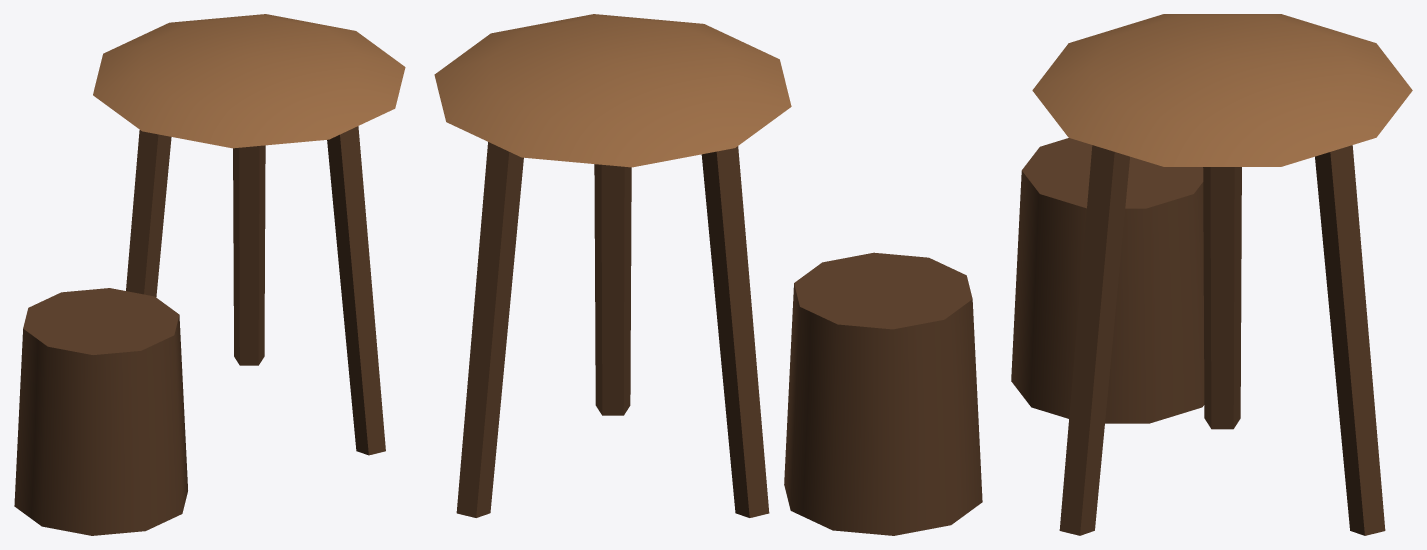
The model's file is Stool_Body.fbx.
The picture shows the model from 3 angles, left to right: view 1: azimuth 30°, elevation 25°; view 2: azimuth 150°, elevation 25°; view 3: azimuth 270°, elevation 25°; orthographic projection. The views are drawn at different scales.
Visible parts, largest first — view 1: Stool_Body_EXP; view 2: Stool_Body_EXP; view 3: Stool_Body_EXP.
Part boxes in pixels (x1=…): Stool_Body_EXP: x1=14, y1=14, x2=405, y2=535; Stool_Body_EXP: x1=434, y1=14, x2=982, y2=535; Stool_Body_EXP: x1=1011, y1=14, x2=1412, y2=535.
Bounding box in the file's own units: 0.5163 × 0.4514 × 0.38.
